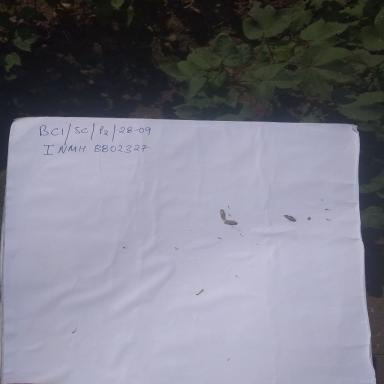pbw: (278, 209, 301, 228), (221, 218, 245, 228), (212, 208, 228, 222)
